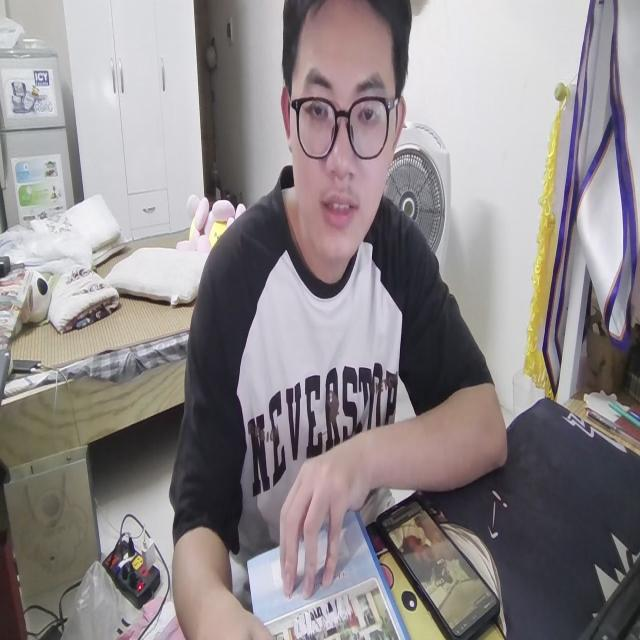book: (241, 506, 410, 640)
phone: (372, 479, 500, 640)
student: (164, 0, 512, 640)
